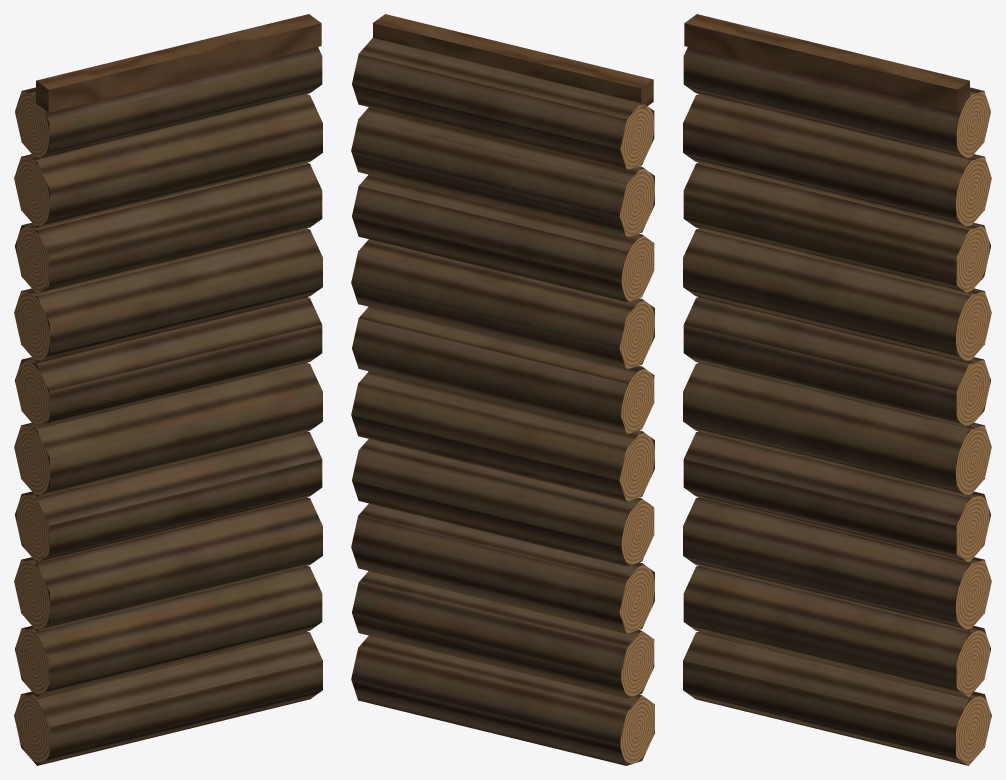
File: wall.glb
3 views of the same model, side by side, from view 1: azimuth 30°, elevation 25°; view 2: azimuth 150°, elevation 25°; view 3: azimuth 330°, elevation 25° (orthographic).
Parts seen in each view (by area): view 1: wall; view 2: wall; view 3: wall.
Boxes of the visible parts, bbox=[...] form: wall: bbox=[14, 14, 322, 765]; wall: bbox=[351, 14, 654, 765]; wall: bbox=[683, 14, 991, 765].
Bounding box in the file's own units: 1 × 2.4 × 0.2281.
Materials: 1 (1 with a texture image).
